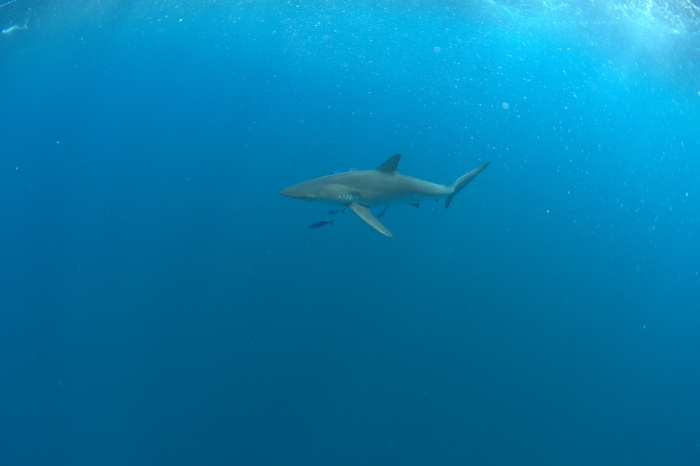Sedoso: (276, 146, 493, 240)
